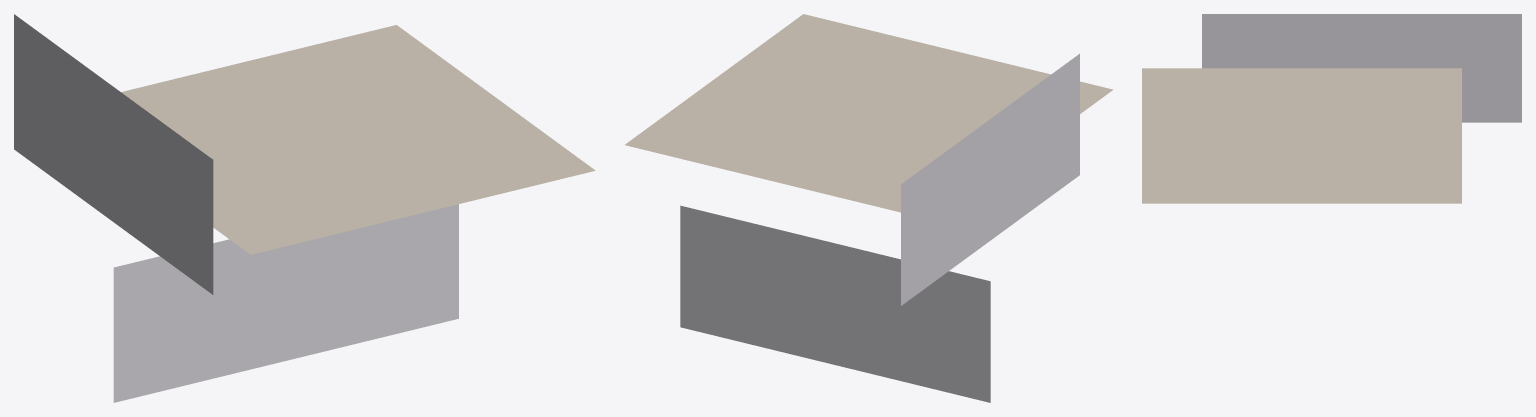
The model's file is test_room.glb.
The picture shows the model from 3 angles, left to right: view 1: azimuth 30°, elevation 25°; view 2: azimuth 150°, elevation 25°; view 3: azimuth 270°, elevation 25°; orthographic projection. The views are drawn at different scales.
Visible parts, largest first — view 1: Plane, Plane.001, Plane.002; view 2: Plane, Plane.001, Plane.002; view 3: Plane, Plane.002.
Part boxes in pixels (x1=…): Plane: x1=121, y1=25, x2=595, y2=254; Plane.001: x1=113, y1=204, x2=458, y2=402; Plane.002: x1=14, y1=14, x2=213, y2=294; Plane: x1=625, y1=14, x2=1112, y2=212; Plane.001: x1=680, y1=205, x2=990, y2=402; Plane.002: x1=901, y1=53, x2=1079, y2=305; Plane: x1=1142, y1=68, x2=1461, y2=203; Plane.002: x1=1202, y1=14, x2=1521, y2=122.
Bounding box in the file's own units: 8 × 7 × 9.5.
